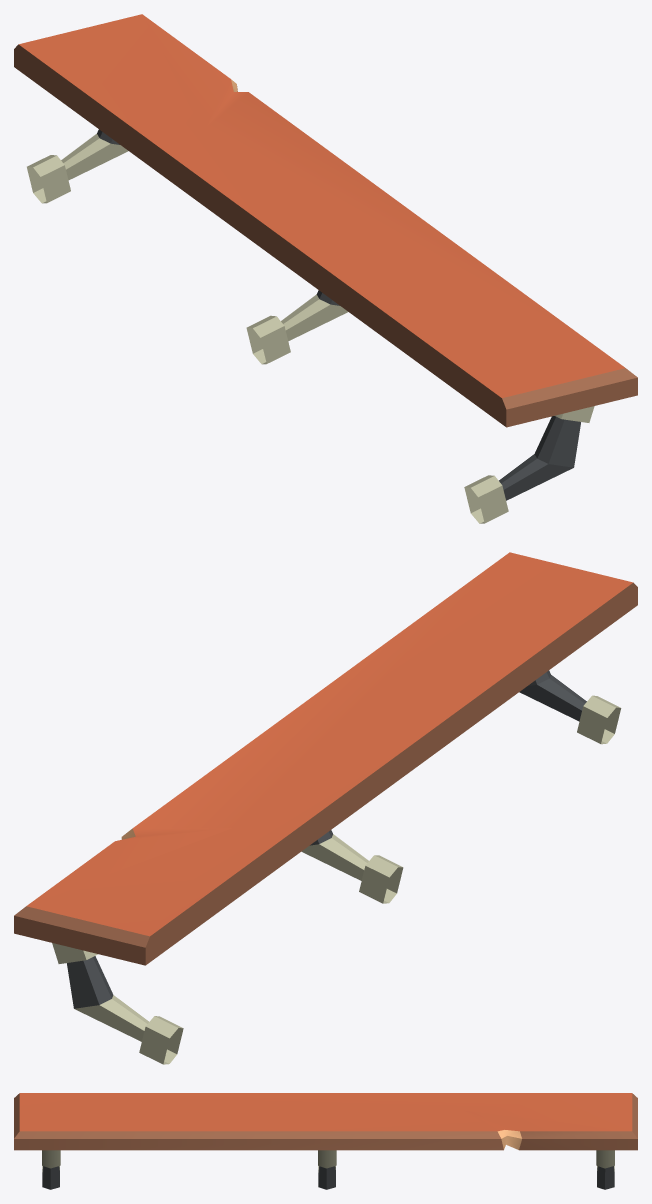
File: Asiento.FBX
The picture shows the model from 3 angles, top to bottom: view 1: azimuth 30°, elevation 25°; view 2: azimuth 150°, elevation 25°; view 3: azimuth 270°, elevation 25°; orthographic projection. The views are drawn at different scales.
Parts seen in each view (by area): view 1: Asiento; view 2: Asiento; view 3: Asiento.
Boxes of the visible parts, x1,y1,x2,y2 form: Asiento: (14, 14, 637, 523); Asiento: (14, 552, 637, 1064); Asiento: (14, 1093, 637, 1189).
Bounding box in the file's own units: 89.56 × 552 × 88.9.
Materials: 1 (1 with a texture image).
